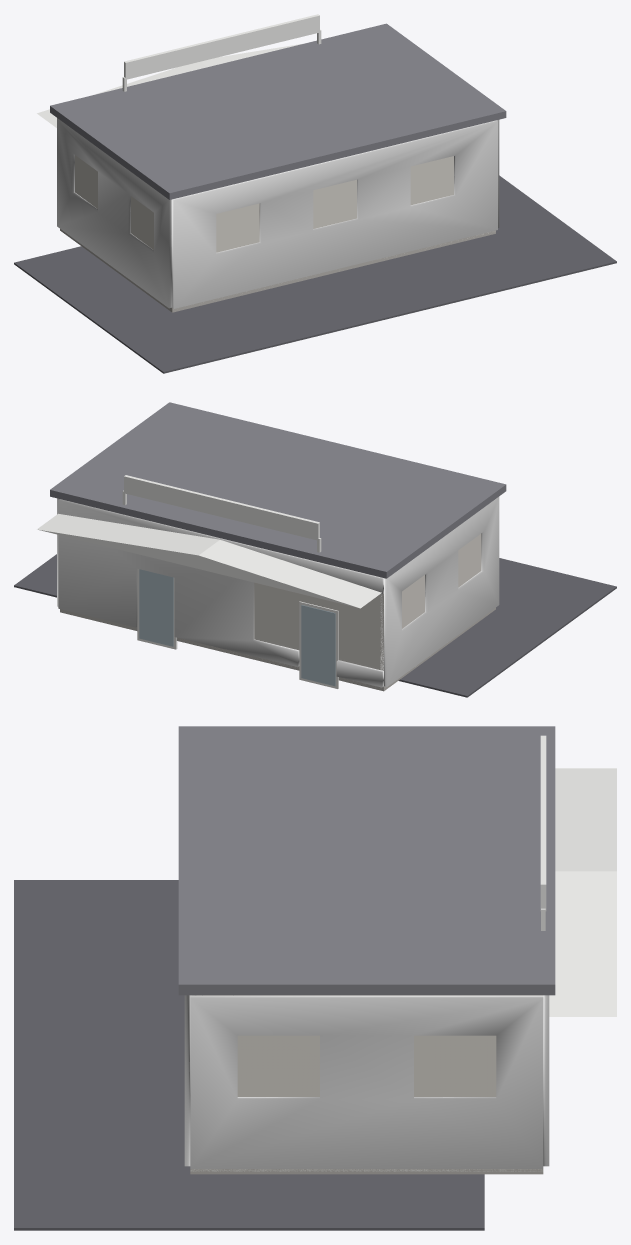
The model's file is laundromat.glb.
3 views of the same model, one above another, from view 1: azimuth 30°, elevation 25°; view 2: azimuth 150°, elevation 25°; view 3: azimuth 270°, elevation 25° (orthographic). The views are drawn at different scales.
Parts seen in each view (by area): view 1: roof, parking, back_wall, left_wall, body, sign_board, foundation, awning; view 2: roof, front_wall, parking, left_wall, awning, body, frame (×2), glass (×2), sign_board, foundation; view 3: roof, parking, right_wall, awning, body, foundation, sign_board, back_wall, front_wall, tile_band.
Part boxes in pixels (box(x1,y1,x2,y2)): roof: box(50, 23, 506, 199); parking: box(14, 175, 616, 373); back_wall: box(172, 120, 497, 308); left_wall: box(57, 118, 172, 308); body: box(75, 155, 453, 252); sign_board: box(124, 14, 319, 79); foundation: box(60, 229, 495, 312); awning: box(37, 43, 304, 127); roof: box(50, 402, 506, 578); front_wall: box(58, 499, 383, 687); parking: box(14, 554, 616, 697); left_wall: box(380, 496, 499, 686); awning: box(37, 513, 381, 608); body: box(254, 534, 481, 670); frame (×2): box(137, 568, 338, 688); glass (×2): box(139, 569, 335, 685); sign_board: box(124, 475, 319, 540); foundation: box(60, 607, 495, 691); roof: box(178, 726, 555, 995); parking: box(14, 880, 484, 1230); right_wall: box(190, 995, 543, 1168); awning: box(549, 768, 616, 1016); body: box(190, 995, 542, 1096); foundation: box(190, 1169, 543, 1174); sign_board: box(540, 735, 546, 910); back_wall: box(184, 995, 195, 1166); front_wall: box(543, 995, 549, 1166); tile_band: box(190, 1169, 542, 1171).
Bounding box in the file's own units: 14 × 4.75 × 10.25.
